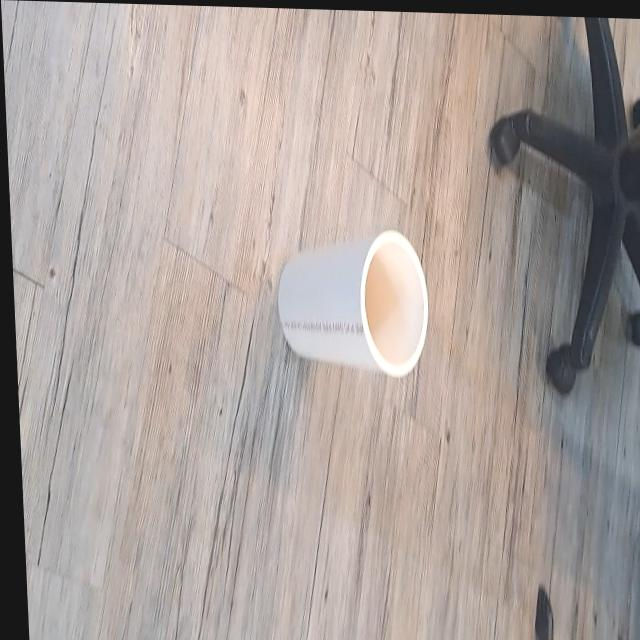CORAL: (256, 200, 440, 403)
